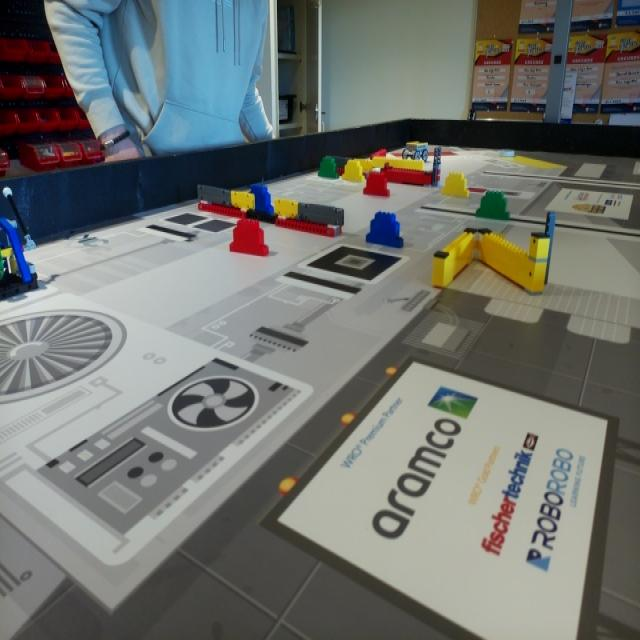blau: (368, 212, 402, 247), (252, 186, 274, 212)
gruen: (477, 189, 509, 220), (318, 160, 338, 179)
rot: (231, 218, 269, 258), (364, 172, 389, 198)
yellow: (444, 173, 470, 198), (344, 161, 362, 181)
